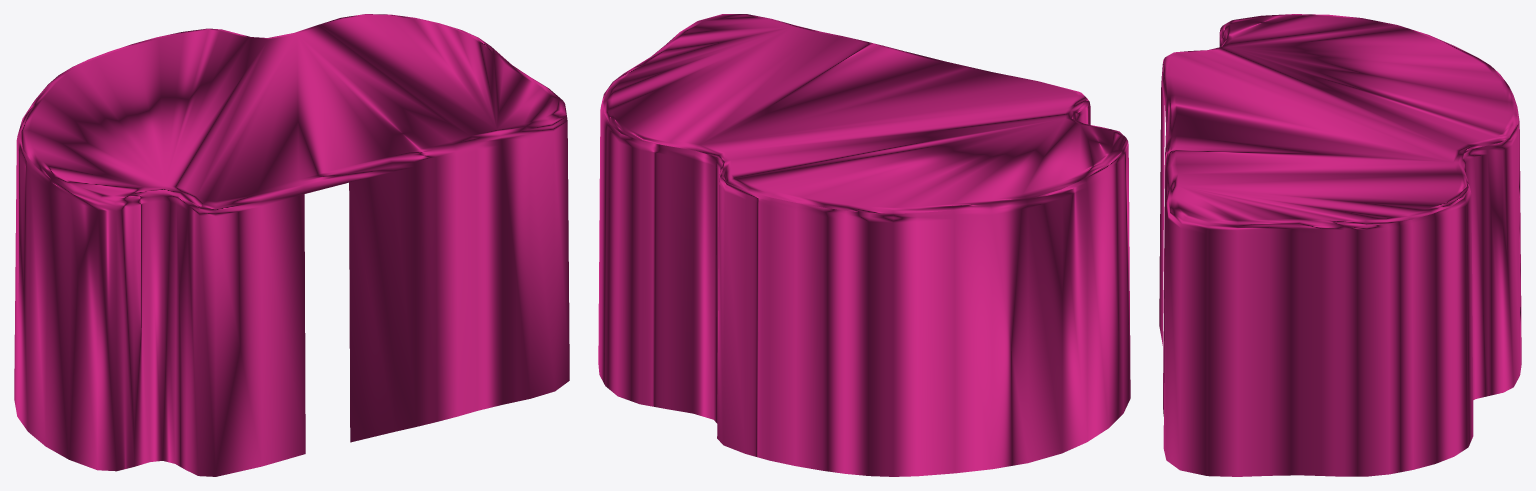
File: lorville_noflyzone_suburb_redout_01.glb
The picture shows the model from 3 angles, left to right: view 1: azimuth 30°, elevation 25°; view 2: azimuth 150°, elevation 25°; view 3: azimuth 270°, elevation 25°; orthographic projection. The views are drawn at different scales.
Bounding box in the file's own units: 2932 × 1591 × 2081.
